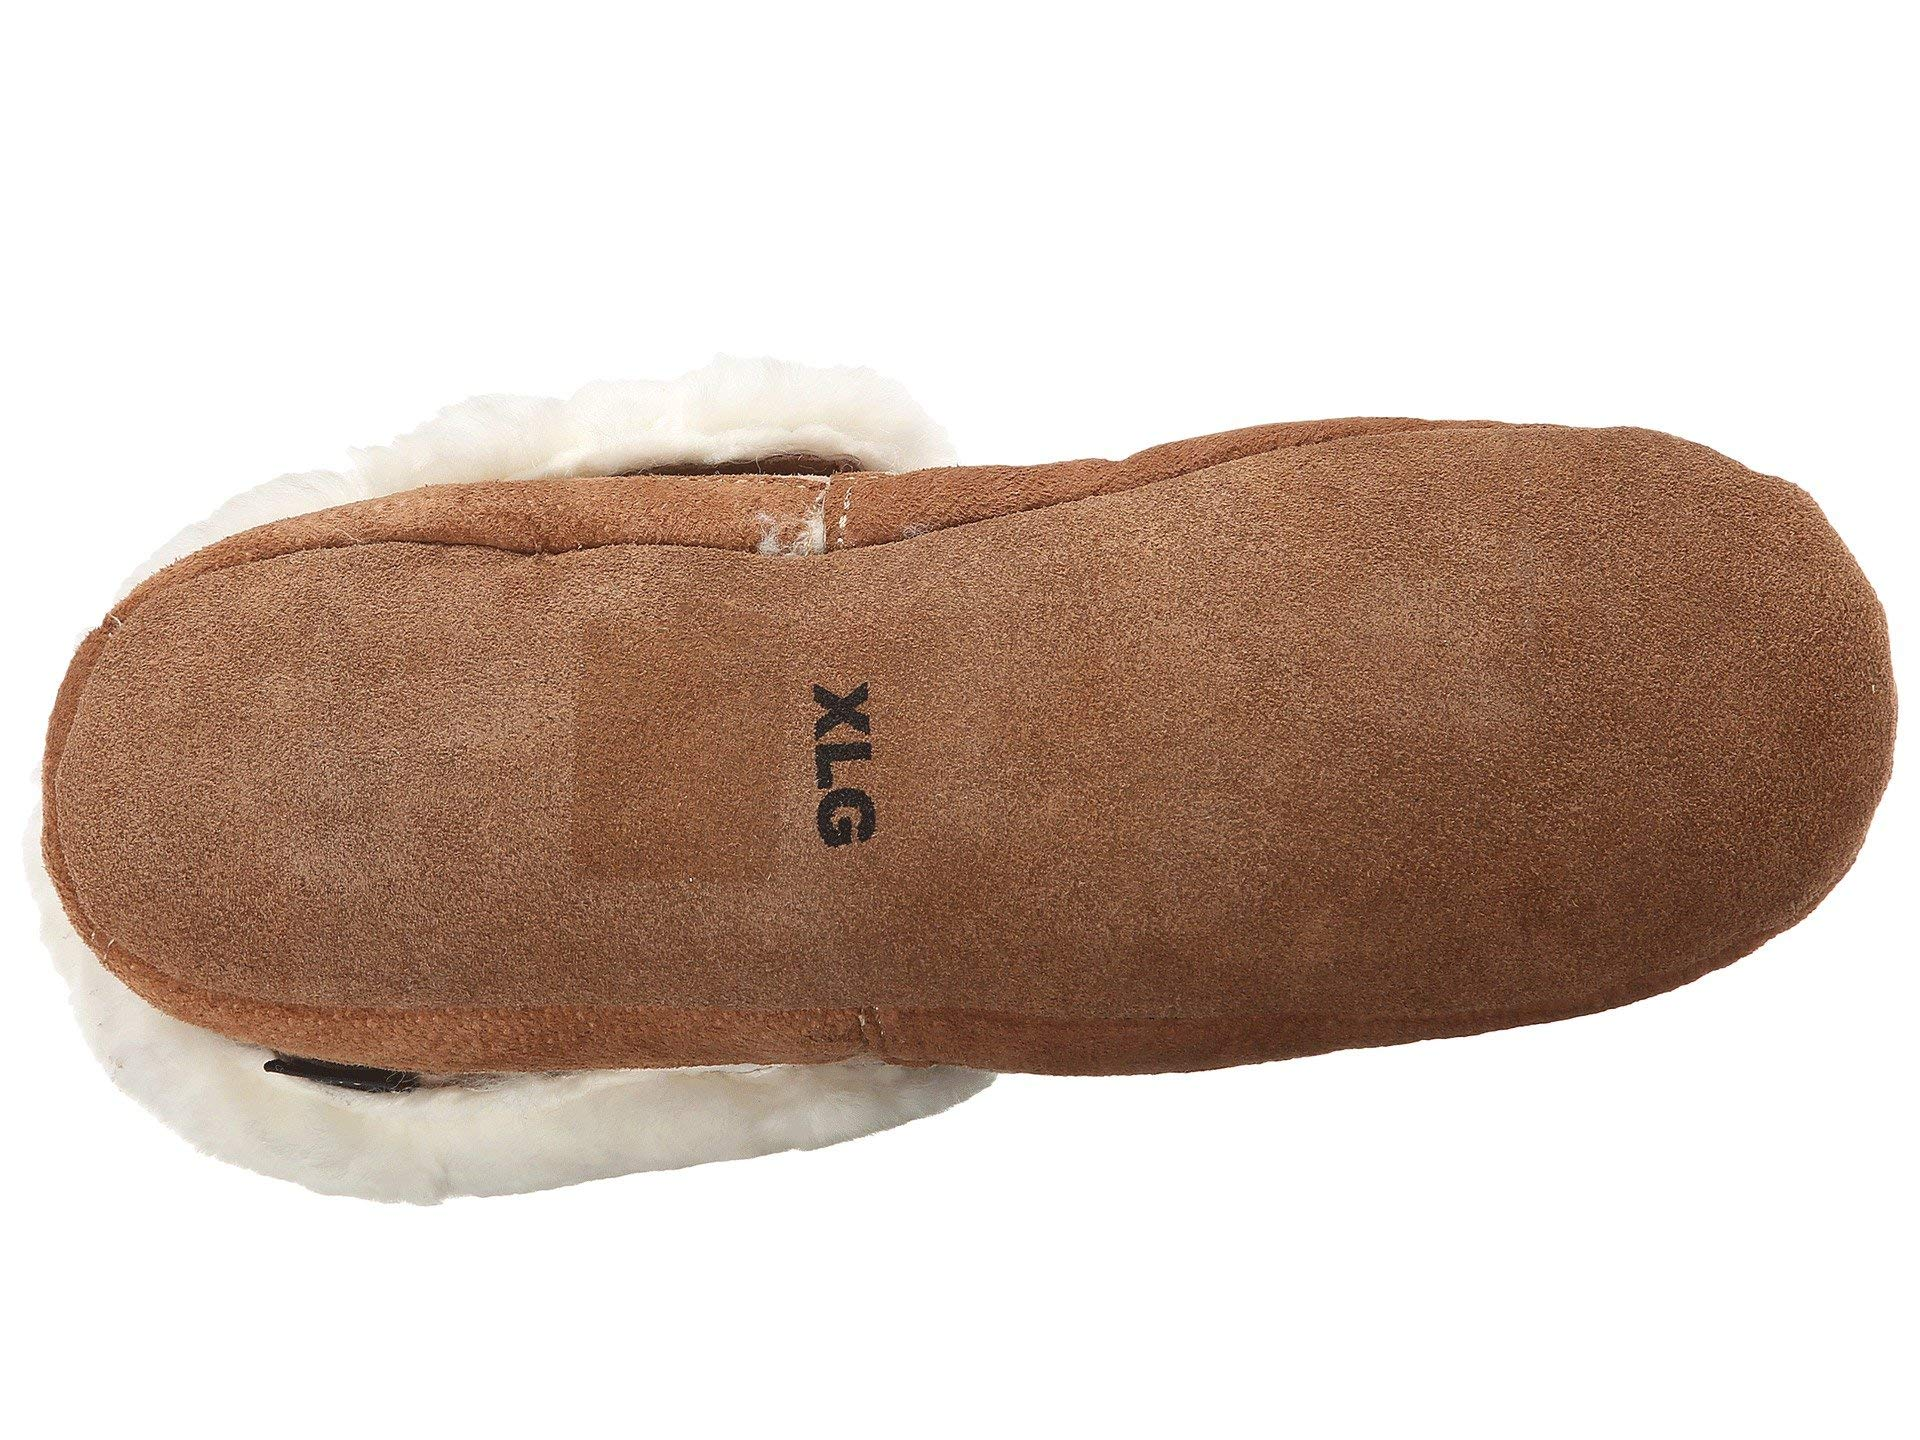text: (733, 599, 1027, 951)
